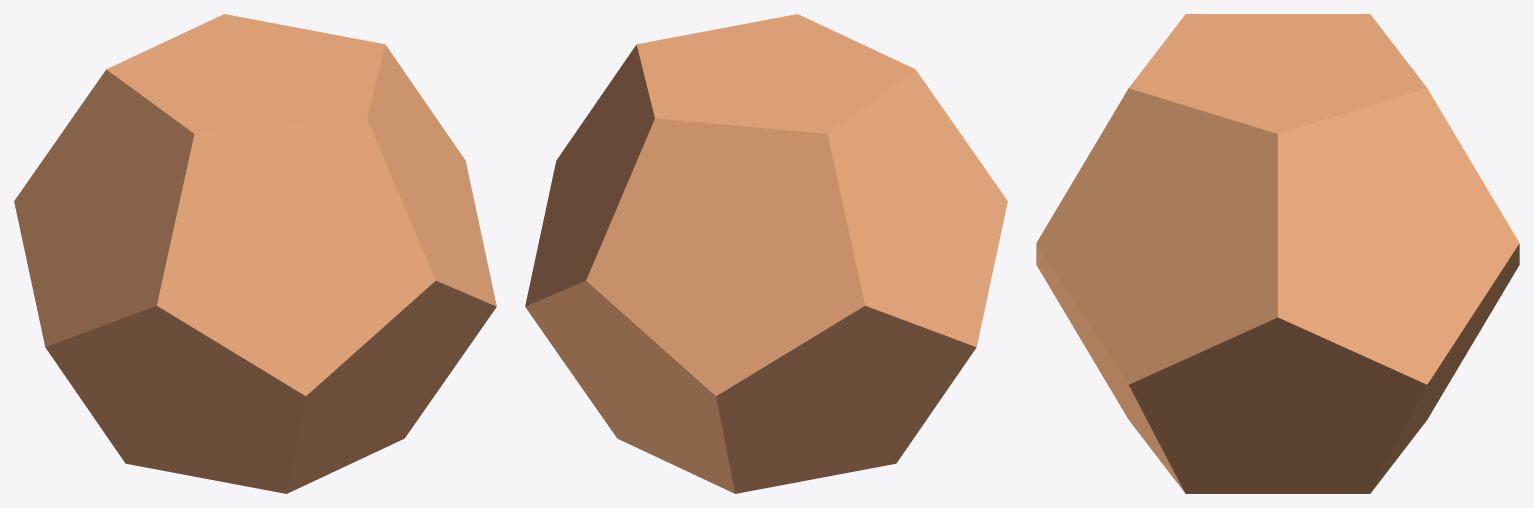
The model's file is dodekaedar2.glb.
3 views of the same model, side by side, from view 1: azimuth 30°, elevation 25°; view 2: azimuth 150°, elevation 25°; view 3: azimuth 270°, elevation 25° (orthographic). The views are drawn at different scales.
Size of the model in its own units: 27.53 by 22.27 by 26.18.
